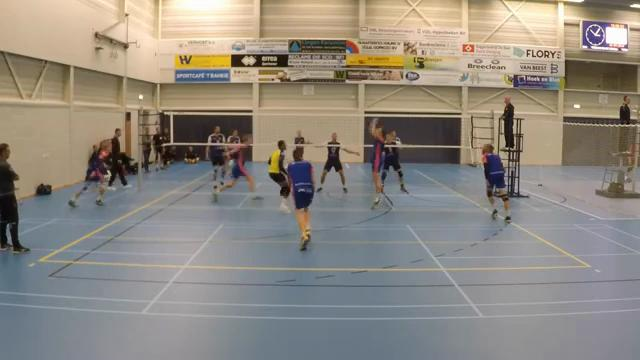alzata: (365, 113, 391, 214)
